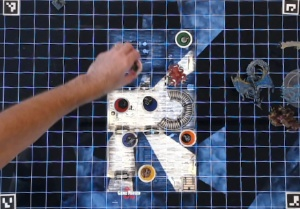blue: (141, 95, 161, 114)
green: (173, 29, 193, 49)
orange: (179, 127, 198, 145)
pink: (123, 56, 146, 79)
red: (113, 96, 130, 113)
violet: (121, 131, 140, 149)
yellow: (134, 161, 156, 184)
